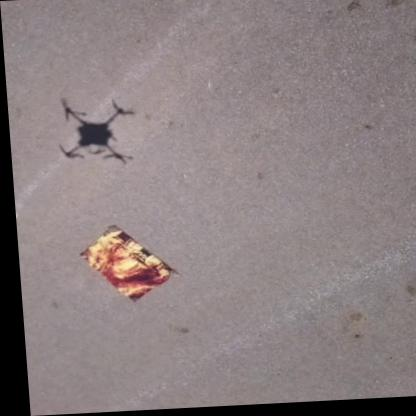fire-poster: (71, 221, 178, 305)
